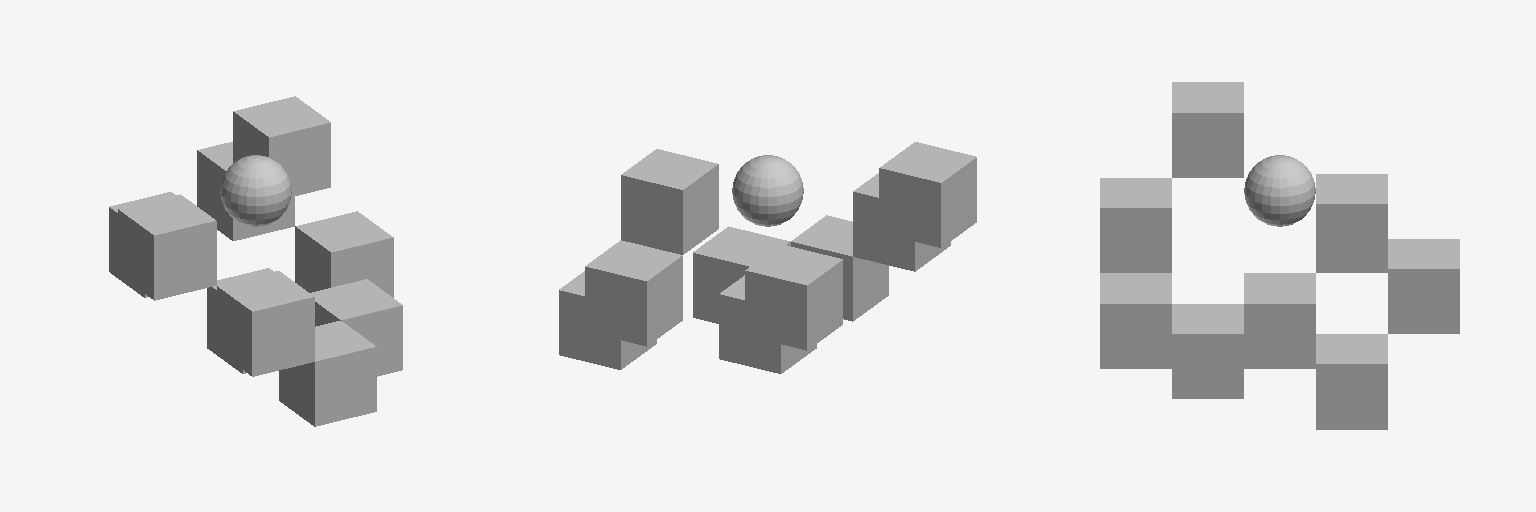
The picture shows the model from 3 angles: view 1: azimuth 30°, elevation 25°; view 2: azimuth 150°, elevation 25°; view 3: azimuth 270°, elevation 25°; orthographic projection.
Visible parts, largest first — view 1: 球体; view 2: 球体; view 3: 球体.
Part boxes in pixels (bbox=[...]): 球体: bbox=[220, 155, 291, 226]; 球体: bbox=[732, 155, 803, 226]; 球体: bbox=[1244, 155, 1315, 226].
Bounding box in the file's own units: 1000 × 600 × 1000.